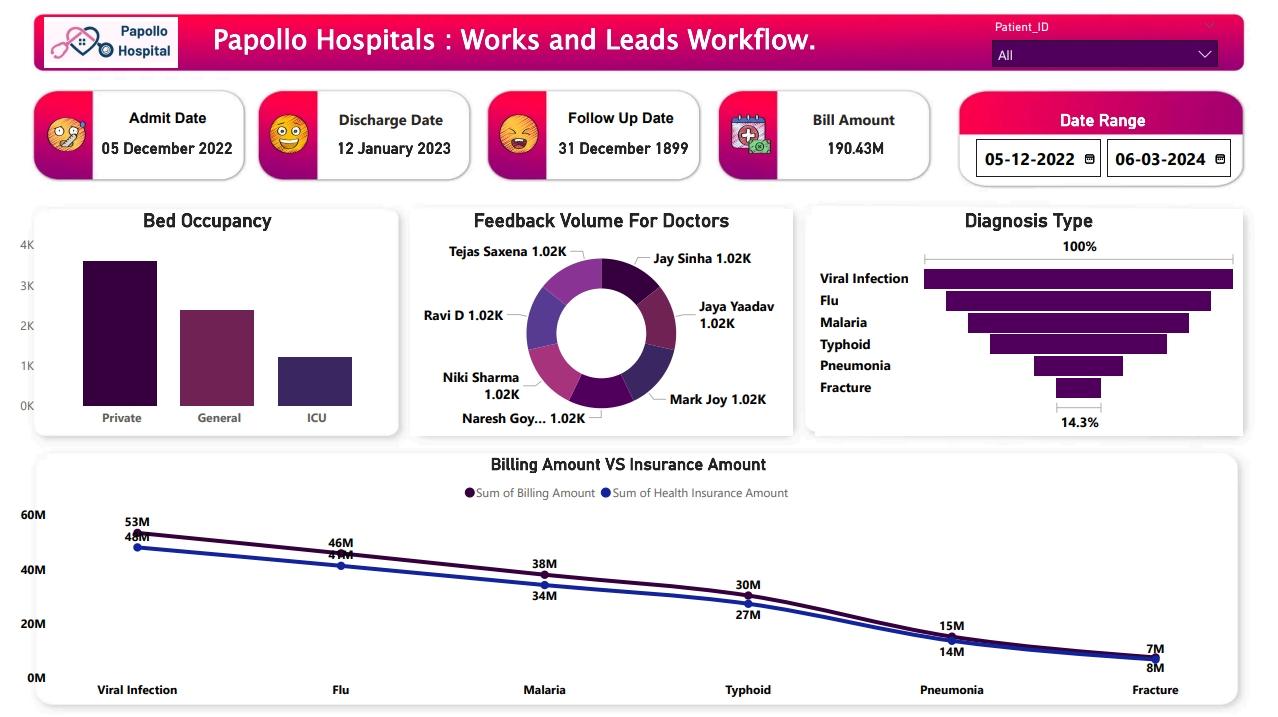

What the dashboard file says about the page in this screenshot:
{"tool":"powerbi","page":{"name":"Page 1","canvas":[1280,720],"ordinal":0},"visuals":[{"type":"image","box":[39.8,11.4,144.3,64.8],"z":0},{"type":"textbox","box":[208.6,15.7,648.6,55.7],"z":1000},{"type":"card","fields":{"Values":["Sheet1.Admit_Date"]},"box":[92,125,151.7,49.6],"z":2000},{"type":"slicer","fields":{"Values":["Sheet1.Patient_ID"]},"box":[982.9,15.7,245.7,55.7],"z":3000},{"type":"textbox","box":[94,105,150,40],"z":4000},{"type":"textbox","box":[317.1,105,150,40],"z":5000},{"type":"textbox","box":[544.3,105,155.9,39.7],"z":6000},{"type":"textbox","box":[779.5,105,150.2,39.7],"z":7000},{"type":"card","fields":{"Values":["Sheet1.Billing Amount"]},"box":[779.5,125,153.1,49.6],"z":8000},{"type":"card","fields":{"Values":["Sheet1.Discharge_Date"]},"box":[318.9,125,151.7,49.6],"z":9000},{"type":"card","fields":{"Values":["Sheet1.Followup Date"]},"box":[548.5,125,151.7,49.6],"z":10000},{"type":"slicer","title":"Date Range","fields":{"Values":["Sheet1.Admit_Date"]},"box":[963.8,110.6,280.6,73.7],"z":11000},{"type":"columnChart","title":"Bed Occupancy","fields":{"Category":["Sheet1.Bed_Occupancy"],"Y":["Sheet1.Bed_Occupancy"]},"box":[15.6,209.8,385.5,226.8],"z":12000},{"type":"donutChart","title":"Feedback Volume For Doctors","fields":{"Category":["Sheet1.Doctor"],"Y":["Sheet1.Doctor"]},"box":[411,209.8,382.7,226.8],"z":13000},{"type":"funnel","title":"Diagnosis Type","fields":{"Category":["Sheet1.Diagnosis"],"Y":["Sheet1.Diagnosis"]},"box":[816.4,209.8,428,226.8],"z":14000},{"type":"lineChart","title":"Billing Amount VS Insurance Amount","fields":{"Y":["Sheet1.Billing Amount","Sheet1.Health Insurance Amount"],"Category":["Sheet1.Diagnosis"]},"box":[15.6,455,1227.4,253.7],"z":15000},{"type":"image","box":[727,110,50,50],"z":15001},{"type":"image","box":[495,110,50,50],"z":15002},{"type":"image","box":[265,110,50,50],"z":15003},{"type":"image","box":[40,110.6,53.9,49.6],"z":15004}]}

Visuals, with their boxes in screenshot pixels (x1, y1, x2, y2), scaled from the page's 1280x720 canvas onto the 1278x717 screenshot:
image: 40,11,184,76
textbox: 208,16,856,71
card - Sheet1.Admit_Date: 92,124,243,174
slicer - Sheet1.Patient_ID: 981,16,1227,71
textbox: 94,105,244,144
textbox: 317,105,466,144
textbox: 543,105,699,144
textbox: 778,105,928,144
card - Sheet1.Billing Amount: 778,124,931,174
card - Sheet1.Discharge_Date: 318,124,470,174
card - Sheet1.Followup Date: 548,124,699,174
"Date Range" slicer: 962,110,1242,184
"Bed Occupancy" columnChart: 16,209,400,435
"Feedback Volume For Doctors" donutChart: 410,209,792,435
"Diagnosis Type" funnel: 815,209,1242,435
"Billing Amount VS Insurance Amount" lineChart: 16,453,1241,706
image: 726,110,776,159
image: 494,110,544,159
image: 265,110,315,159
image: 40,110,94,160
